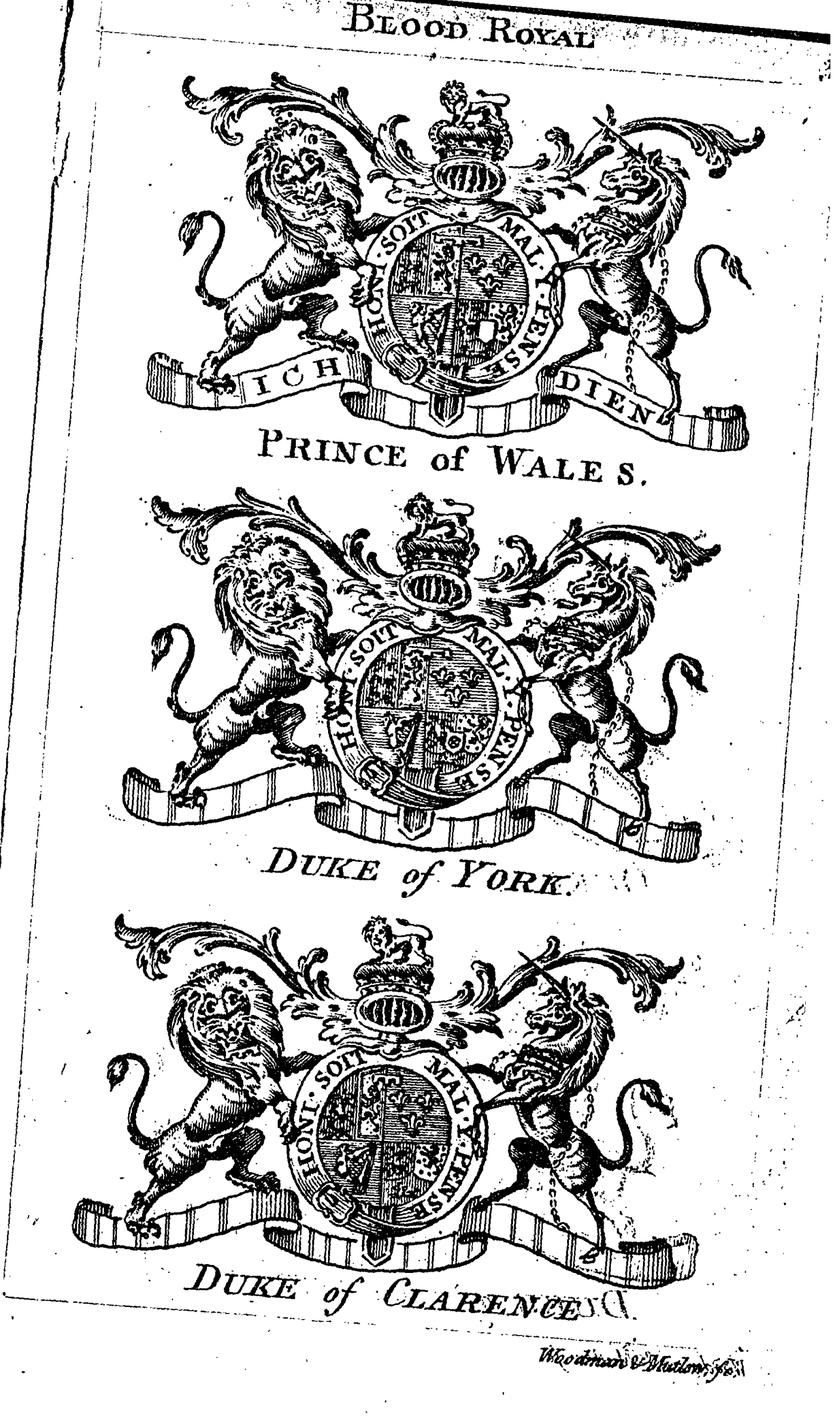coat_of_arms: (135, 36, 775, 491), (90, 887, 703, 1336), (123, 467, 739, 908)
